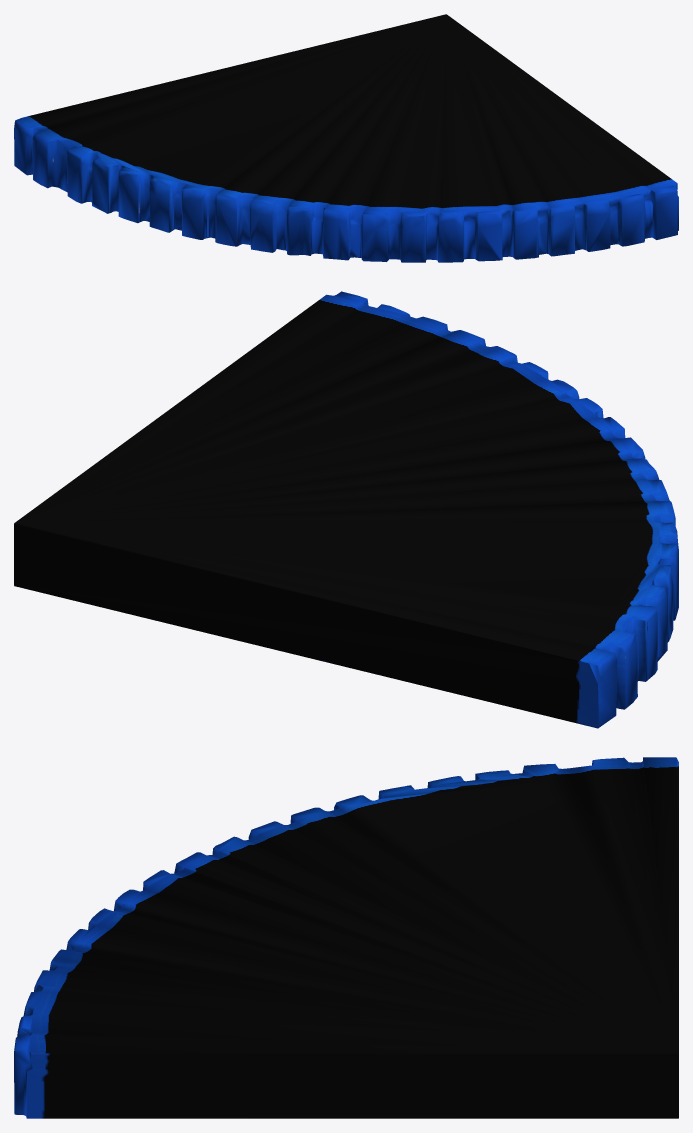
File: 9-roof-front-left.fbx
3 views of the same model, one above another, from view 1: azimuth 30°, elevation 25°; view 2: azimuth 150°, elevation 25°; view 3: azimuth 270°, elevation 25° (orthographic). The views are drawn at different scales.
Parts seen in each view (by area): view 1: roof-front-left; view 2: roof-front-left; view 3: roof-front-left.
Part boxes in pixels (left/top/right/bottom): roof-front-left: left=14, top=14, right=678, bottom=262; roof-front-left: left=14, top=291, right=678, bottom=728; roof-front-left: left=14, top=757, right=678, bottom=1118.
Size of the model in its own units: 4635 by 478 by 4390.
1 material, 1 textured.
